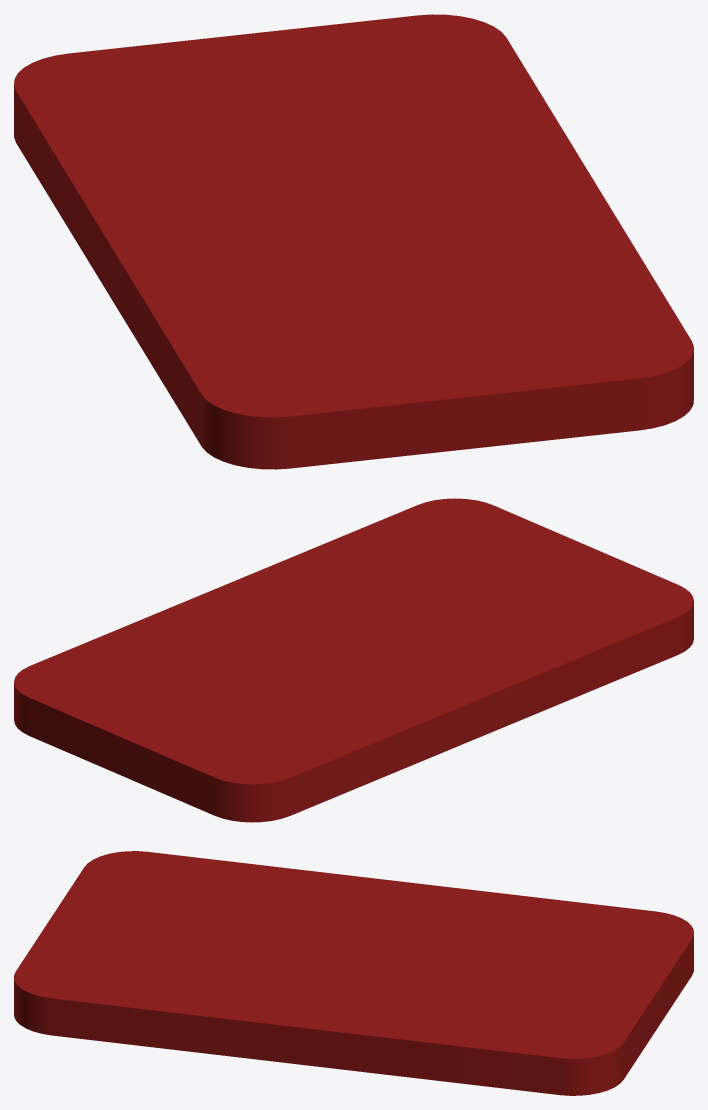
The model's file is Phone.glb.
3 renders of one model, top to bottom at view 1: azimuth 30°, elevation 25°; view 2: azimuth 150°, elevation 25°; view 3: azimuth 270°, elevation 25°, orthographic. The views are drawn at different scales.
Parts seen in each view (by area): view 1: Phone; view 2: Phone; view 3: Phone.
Part boxes in pixels (x1=…): Phone: x1=14, y1=14, x2=693, y2=469; Phone: x1=14, y1=498, x2=693, y2=822; Phone: x1=14, y1=851, x2=693, y2=1095.
Size of the model in its own units: 0.0883 by 0.00734 by 0.1221.
